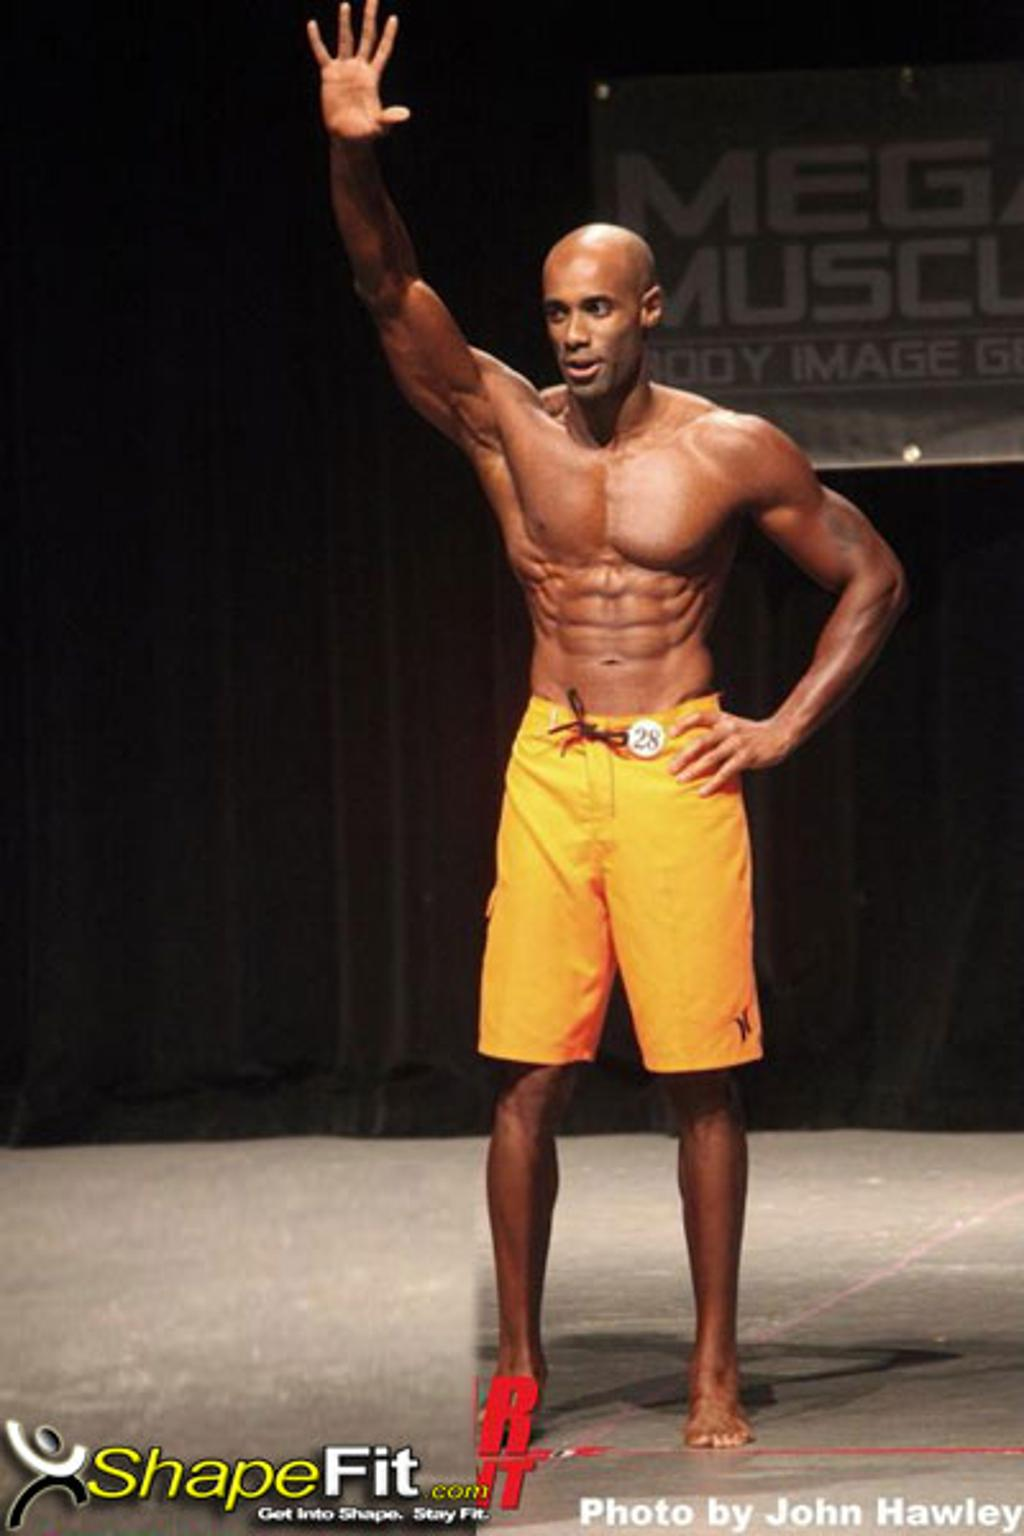face: (535, 261, 631, 393)
